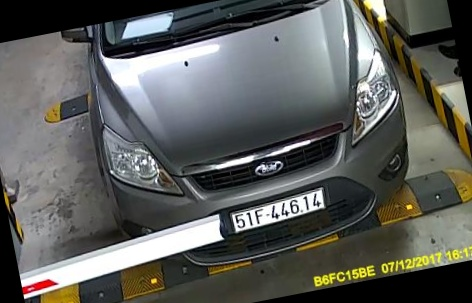plate: (220, 186, 344, 243)
